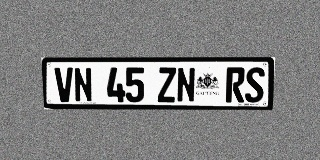4: (106, 67, 125, 102)
5: (126, 67, 144, 102)
N: (73, 67, 93, 102), (177, 67, 195, 102)
R: (225, 67, 245, 103)
S: (245, 67, 265, 103)
V: (54, 67, 74, 102)
Z: (158, 67, 176, 102)
